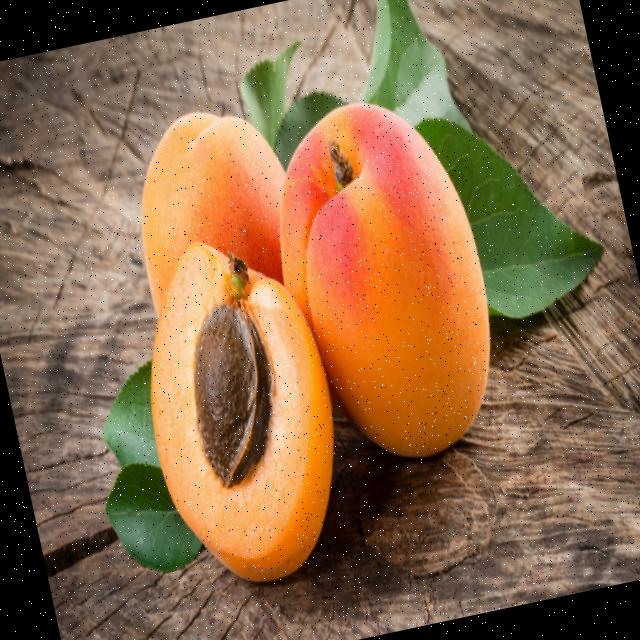Cekirdek: (194, 302, 271, 485)
Kayisi: (278, 103, 489, 456)
Yaprak: (415, 118, 602, 317)
